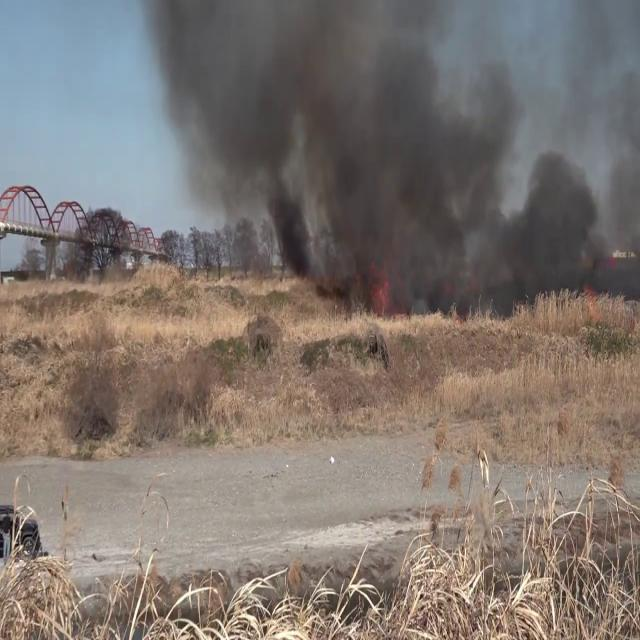Smoke: (316, 0, 640, 318), (144, 0, 324, 272)
